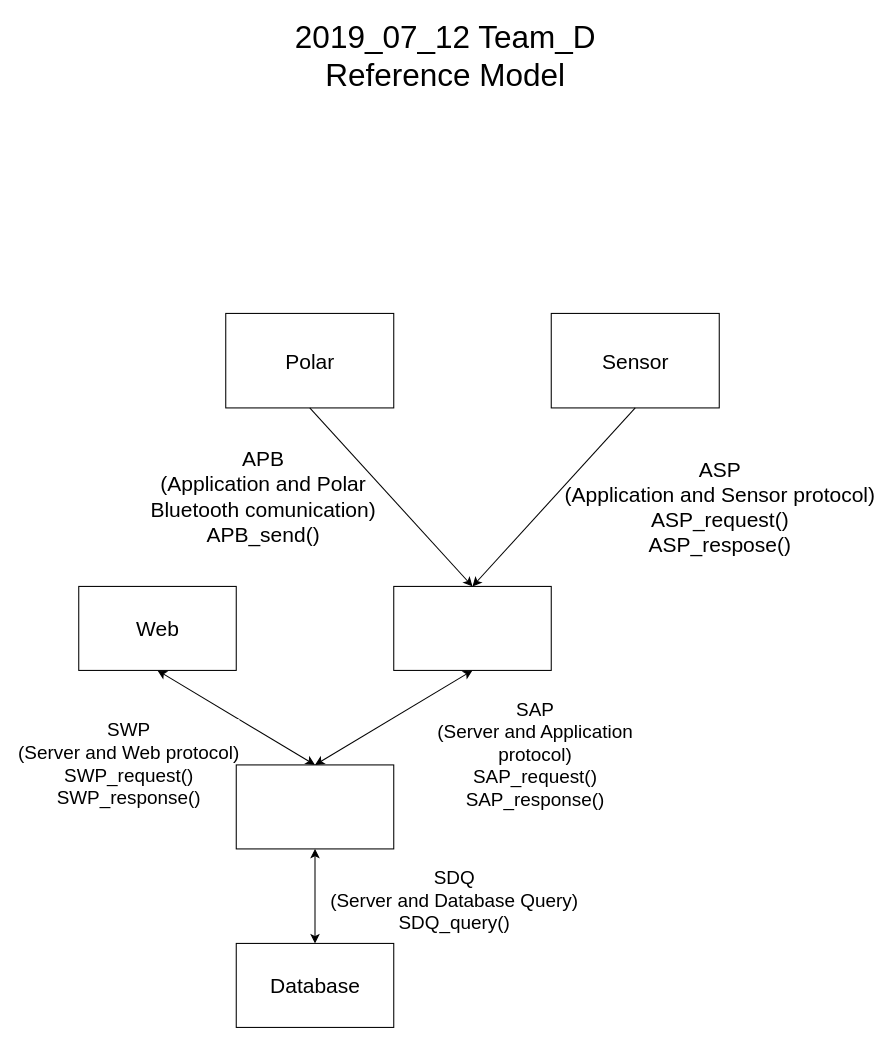
The diagram is 892 pixels wide and 1046 high, and some of its shapes have lost their labels. Each missing label, with the centre of its shape:
"Application" goes at point 472,627.
"Server" goes at point 314,806.
